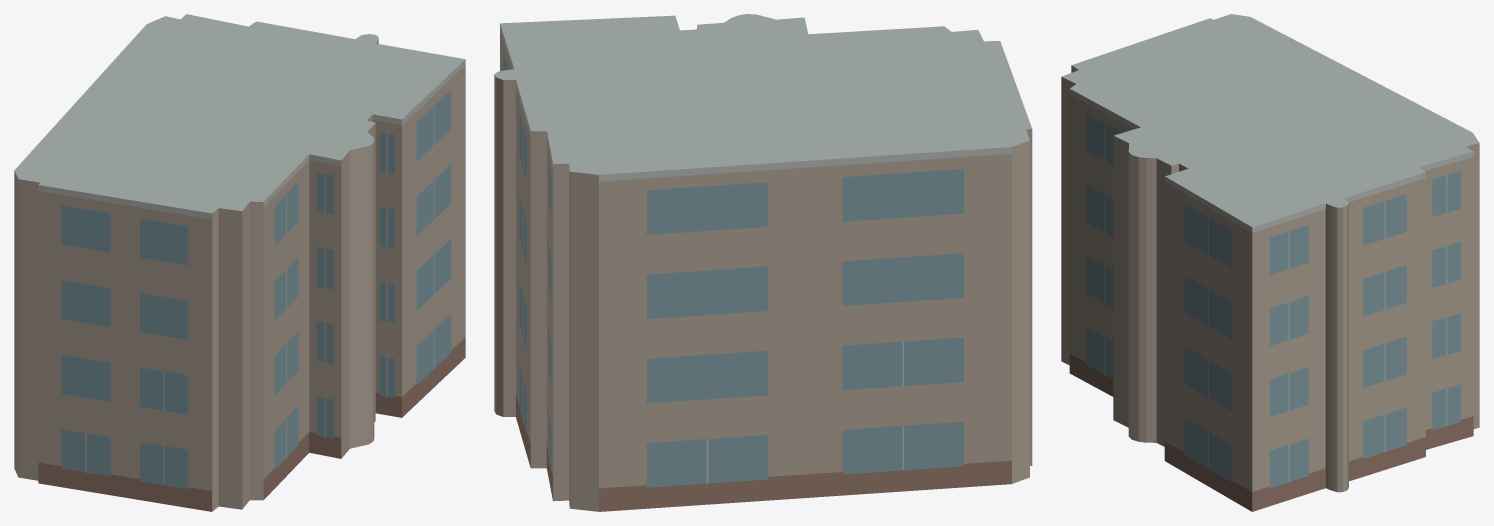
File: survey-upis-32671245.glb
3 renders of one model, left to right at view 1: azimuth 30°, elevation 25°; view 2: azimuth 150°, elevation 25°; view 3: azimuth 270°, elevation 25°, orthographic. The views are drawn at different scales.
Parts seen in each view (by area): view 1: survey-upis-32671245.tmp; view 2: survey-upis-32671245.tmp; view 3: survey-upis-32671245.tmp.
Part boxes in pixels (x1,y1,x2,y2): survey-upis-32671245.tmp: [14, 14, 465, 511]; survey-upis-32671245.tmp: [494, 14, 1032, 511]; survey-upis-32671245.tmp: [1061, 14, 1479, 511].
Bounding box in the file's own units: 19.61 × 12.2 × 16.24.
